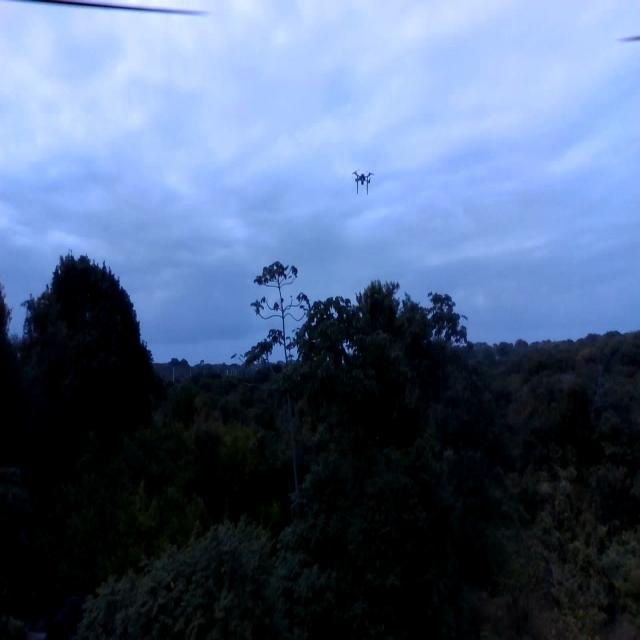-uav-: (345, 158, 379, 206)
